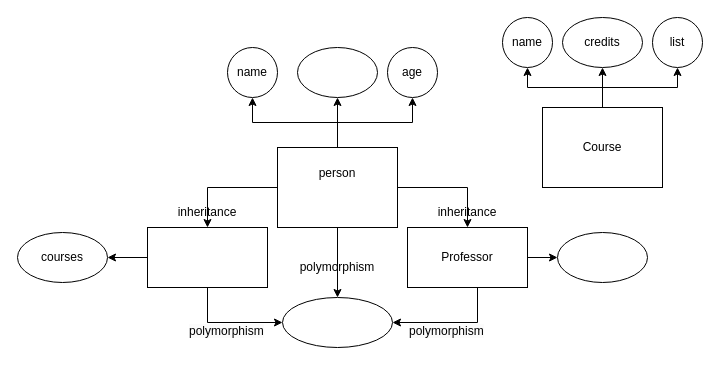
The diagram is 720 pixels wide and 375 high, and some of its shapes have lost their labels. Here are the shapes that lost their labels. From the top down, the centre of each, then its label:
At pixel 337 72: "contact_info".
At pixel 207 257: "student".
At pixel 602 257: "department".
At pixel 337 322: "get_info()".
